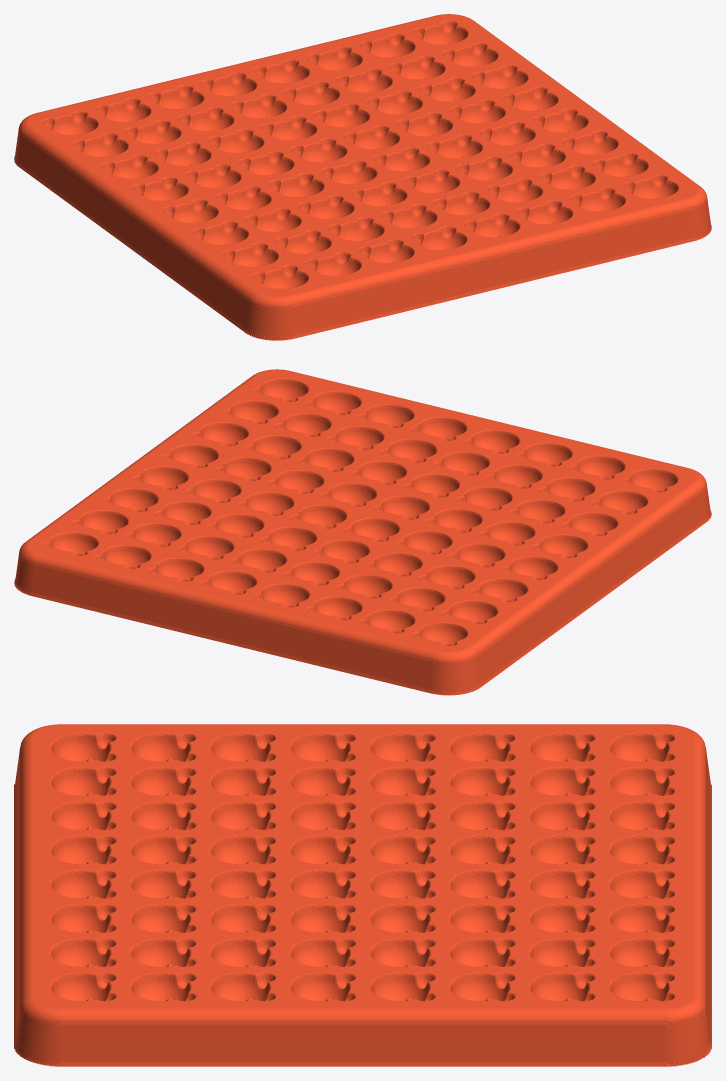
Rendered from mold.glb.
The picture shows the model from 3 angles, top to bottom: view 1: azimuth 30°, elevation 25°; view 2: azimuth 150°, elevation 25°; view 3: azimuth 270°, elevation 25°; orthographic projection. The views are drawn at different scales.
Parts seen in each view (by area): view 1: geometry_0; view 2: geometry_0; view 3: geometry_0.
Boxes of the visible parts, x1,y1,x2,y2 form: geometry_0: (14,14,711,340); geometry_0: (14,369,711,695); geometry_0: (14,724,711,1066).
Bounding box in the file's own units: 0.1337 × 0.0105 × 0.1319.
